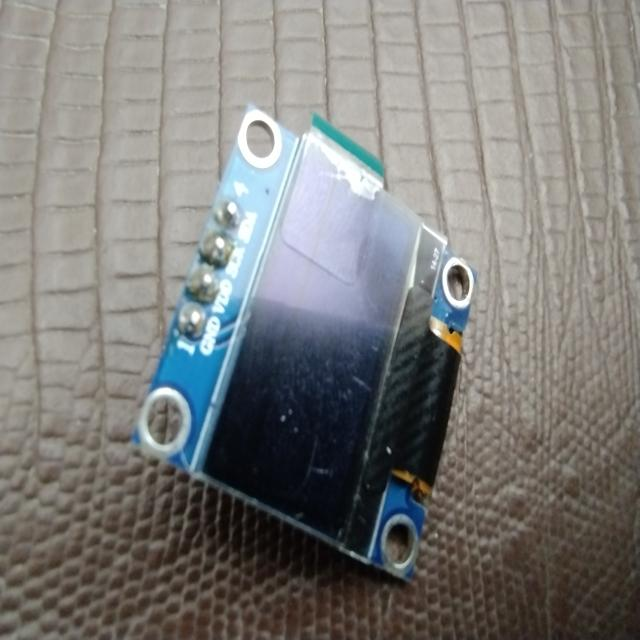oled: (126, 89, 487, 596)
